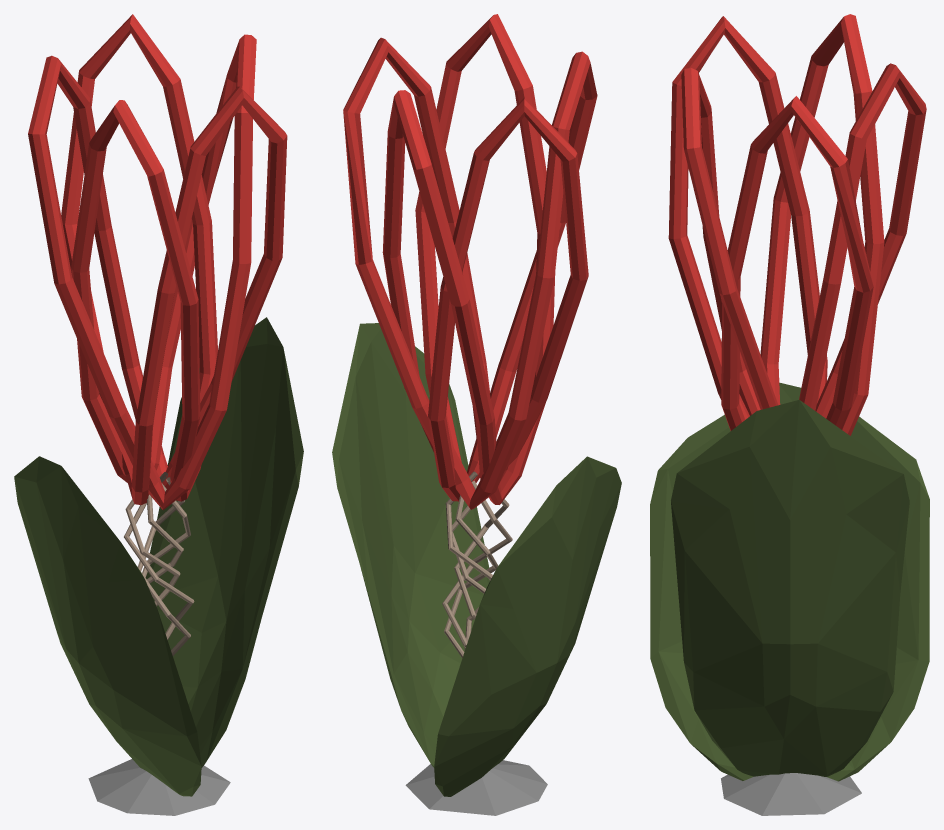
File: PlainsShrub.fbx
3 renders of one model, left to right at view 1: azimuth 30°, elevation 25°; view 2: azimuth 150°, elevation 25°; view 3: azimuth 270°, elevation 25°, orthographic.
Visible parts, largest first — view 1: Braid, Plane.001, Plane, Cone, Helix.004, Helix.003, Helix, Helix.001; view 2: Braid, Plane.001, Plane, Cone, Helix, Helix.004, Helix.003, Helix.001; view 3: Plane.001, Braid, Plane, Cone.
Part boxes in pixels (bbox=[...]): Braid: bbox=[28, 14, 287, 510]; Plane.001: bbox=[145, 317, 303, 767]; Plane: bbox=[14, 456, 201, 796]; Cone: bbox=[88, 759, 230, 815]; Helix.004: bbox=[124, 472, 194, 639]; Helix.003: bbox=[137, 477, 190, 655]; Helix: bbox=[125, 499, 180, 606]; Helix.001: bbox=[147, 494, 183, 583]; Braid: bbox=[343, 14, 597, 509]; Plane.001: bbox=[332, 323, 489, 767]; Plane: bbox=[434, 456, 621, 796]; Cone: bbox=[405, 760, 547, 815]; Helix: bbox=[442, 480, 512, 647]; Helix.004: bbox=[444, 495, 498, 657]; Helix.003: bbox=[445, 471, 492, 650]; Helix.001: bbox=[454, 499, 509, 619]; Plane.001: bbox=[671, 399, 909, 776]; Braid: bbox=[668, 14, 926, 435]; Plane: bbox=[650, 382, 929, 781]; Cone: bbox=[721, 773, 861, 815].
Size of the model in its own units: 184 by 565 by 194.
